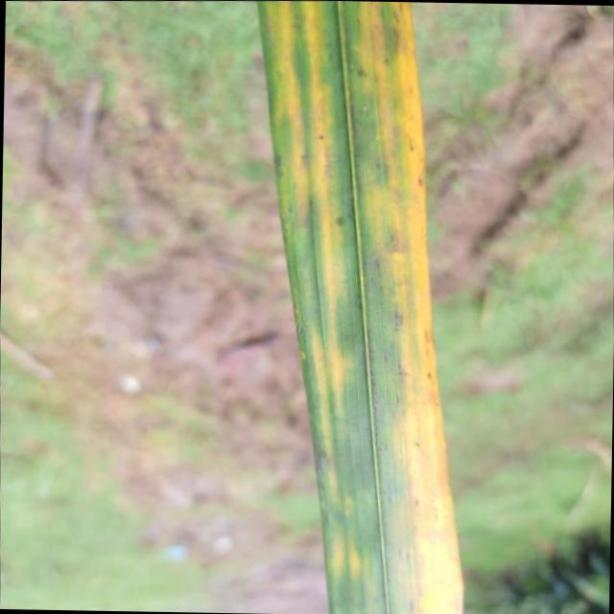Megnesium: (259, 3, 465, 614)
